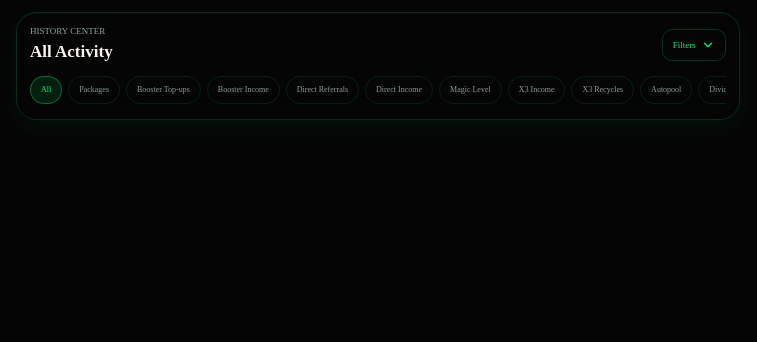
Test: History Center UI › requests and renders the owner-relative Magic Level placement position
The width and height of the screenshot is (757, 342).
Click the button "Magic Level" at (470, 90), box [439,76,502,104]
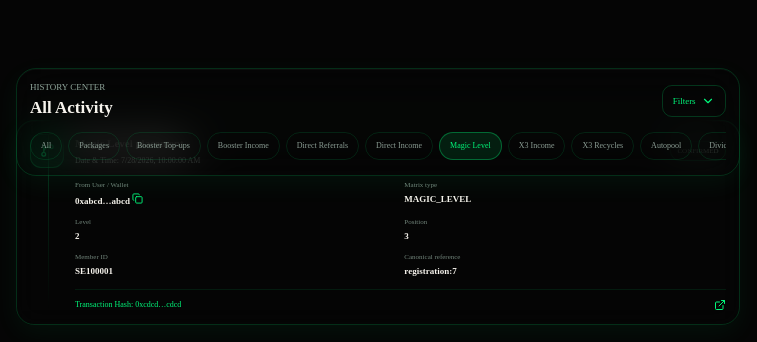
expect the text "Magic Level placement" is shown: met, box [75,137,184,149]
expect the text "SE100001" is shown: met, box [75,266,113,276]
expect the text "registration:7" is shown: met, box [404,266,457,276]
